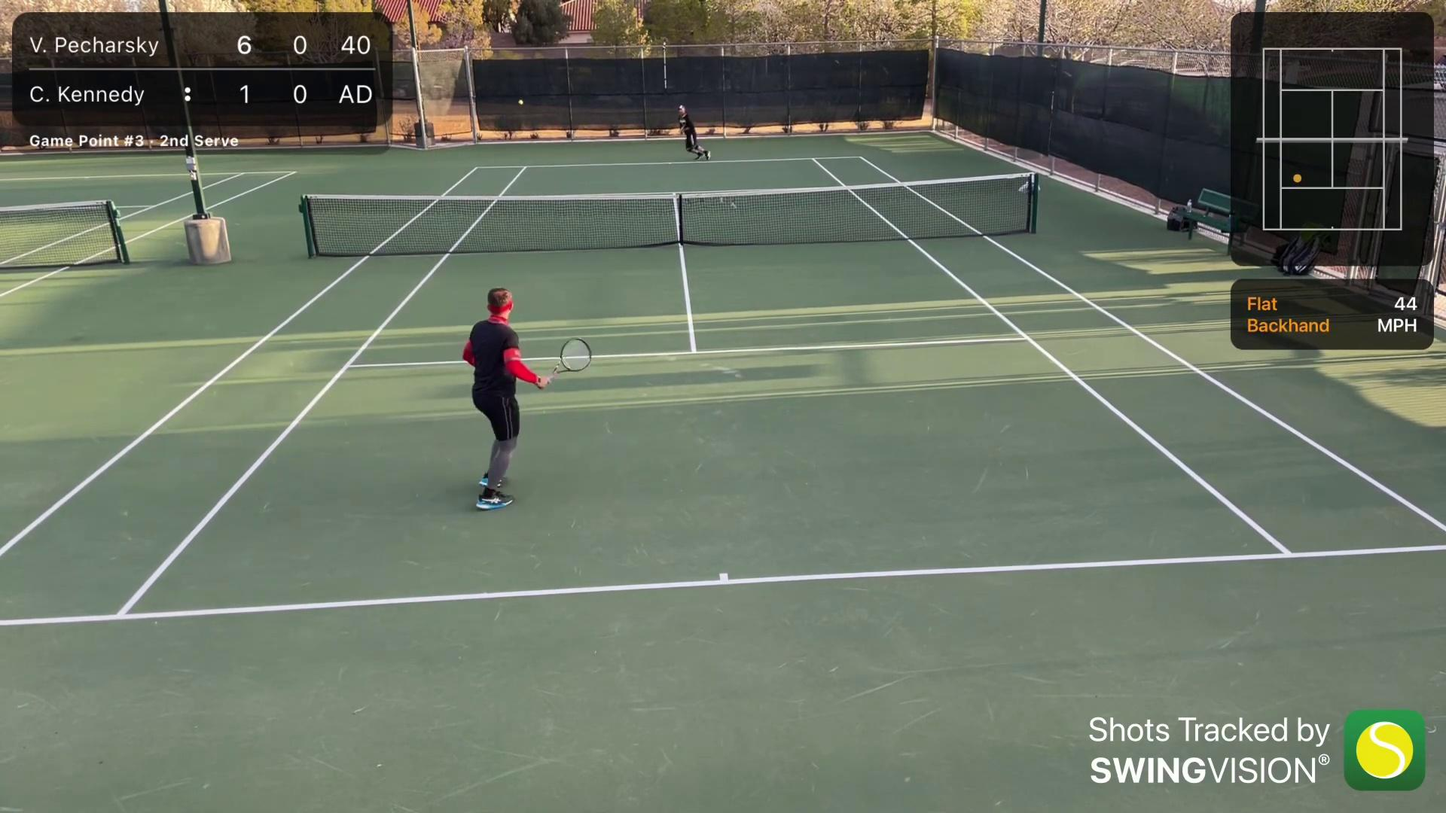ball: (519, 99, 525, 106)
